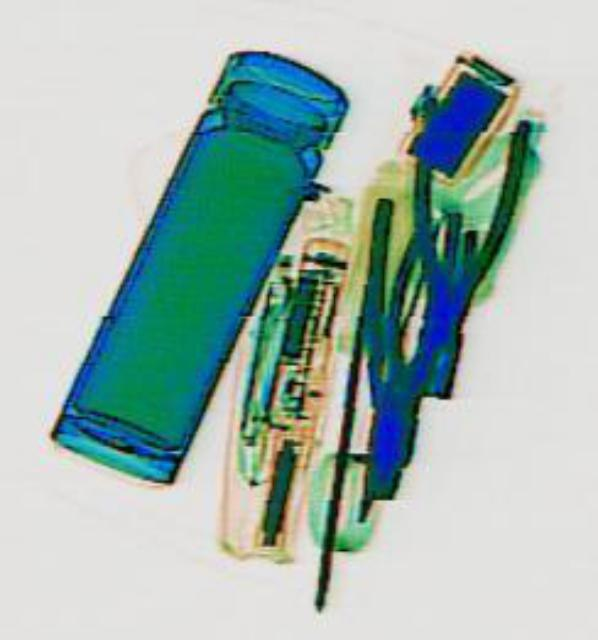Pliers: (374, 102, 525, 400), (334, 194, 459, 501)
